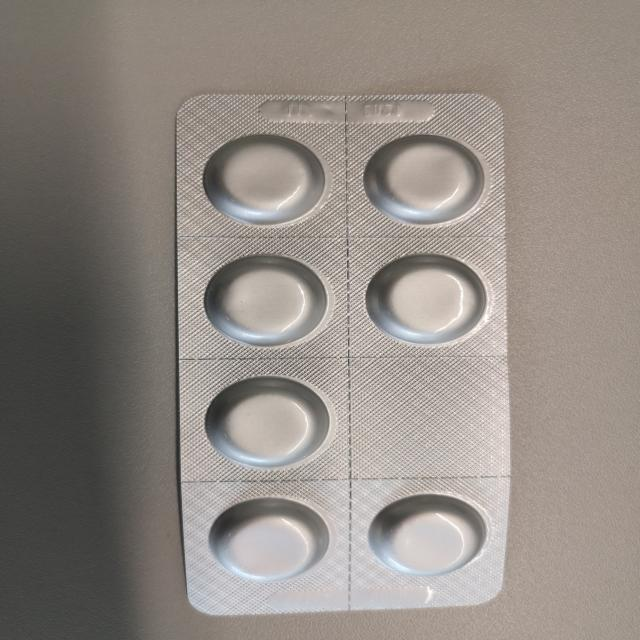Pill: (201, 372, 333, 473), (200, 126, 330, 228), (362, 247, 492, 349), (201, 250, 331, 350), (359, 130, 490, 228), (204, 493, 336, 586), (365, 488, 492, 582)
